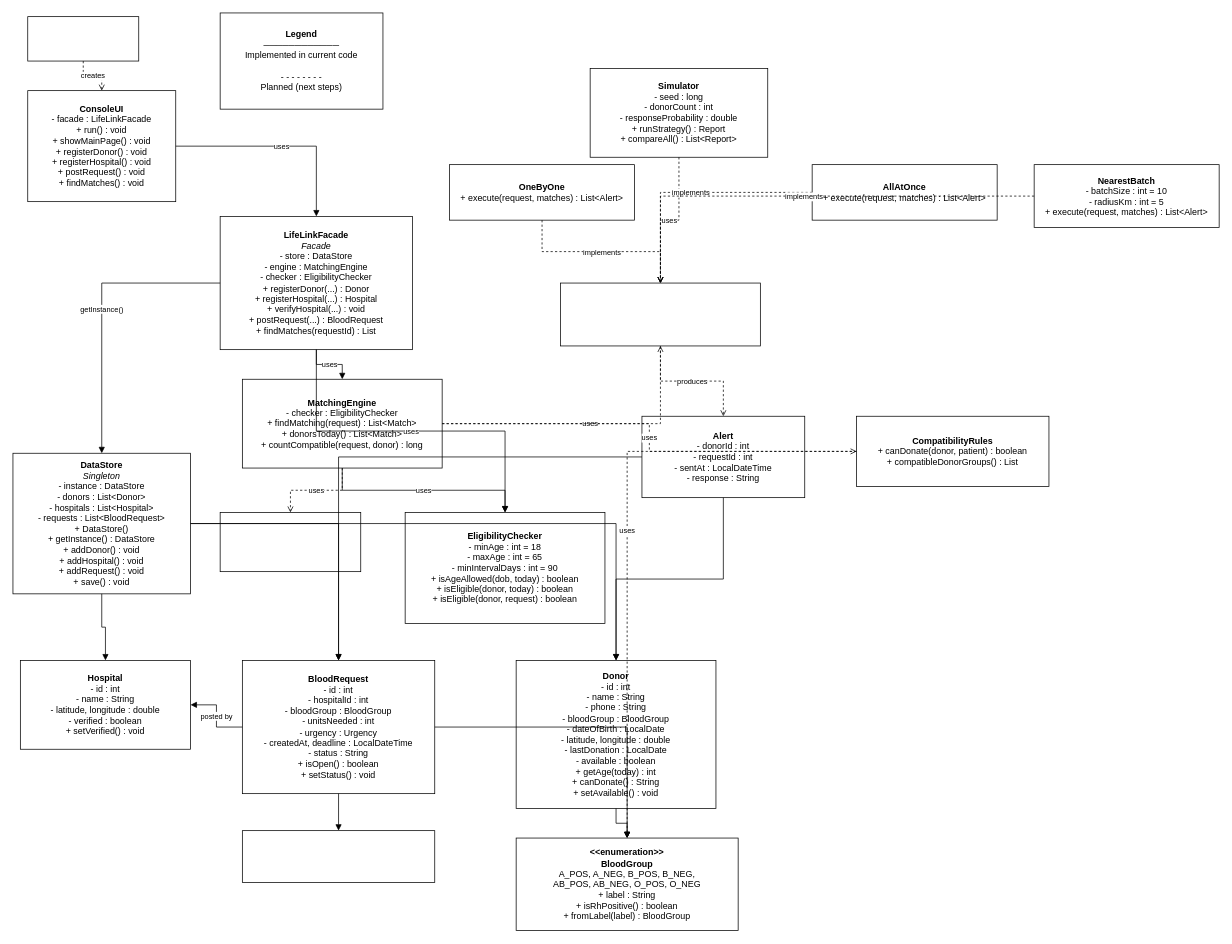
Image size: 1232x944. Some labels were removed from this diagram. The centre of each missing label's shape, as x and y in pixels:
"<<enumeration>> Urgency CRITICAL, URGENT, NORMAL" goes at (338,856).
"<<interface>> AlertStrategy + execute(request, matches) : List<Alert>" goes at (660,314).
"GeoUtil + distanceKm(lat1, lon1, lat2, lon2) : double" goes at (290,542).
"Main + main(args) : void" goes at (83,38).
